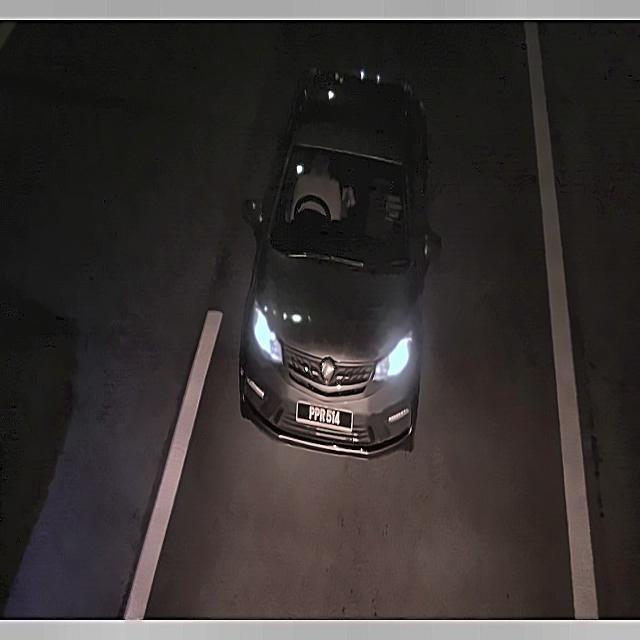car: (297, 398, 353, 440)
